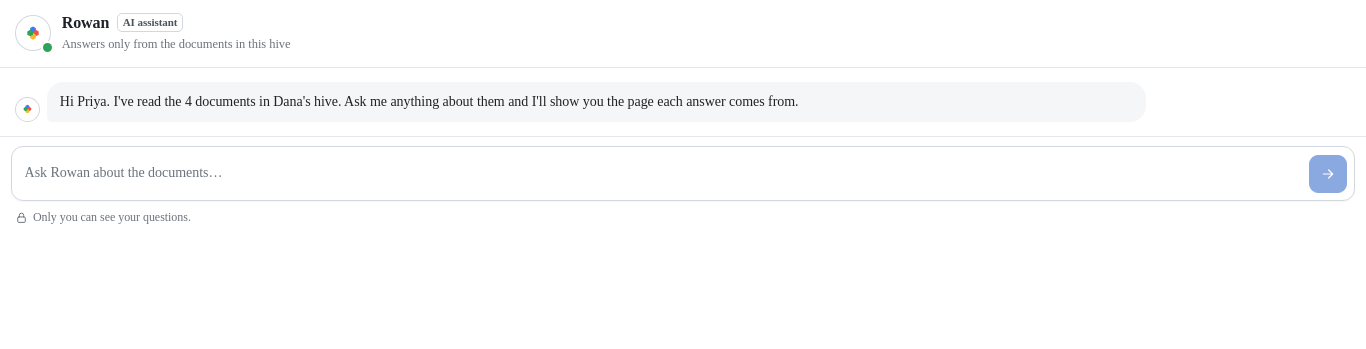
Scenario: AskChat › shows an inline failure with Try again only when the failure is retryable
Later steps or results of the test are not shown.
Type "One" into the text box named "Question for Rowan". click: (663, 174)
box: [25,155,1302,193]
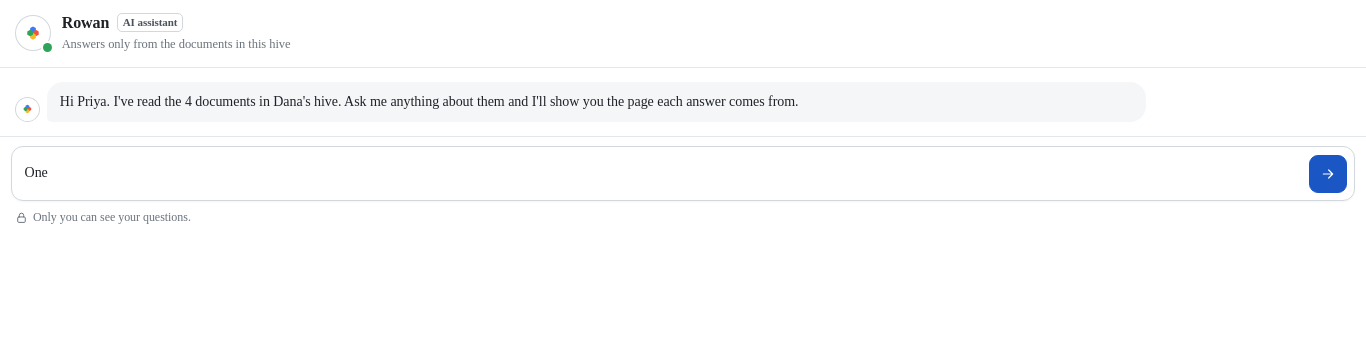
Press Enter in the text box named "Question for Rowan", box [25,155,1302,193]
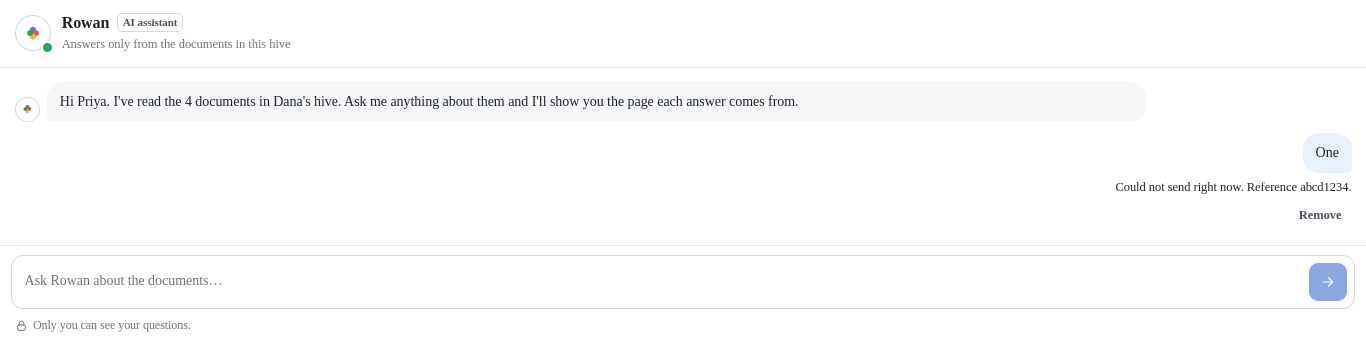
Result: the element with test id "ask-send-error" is shown at [1115,178,1352,230]
